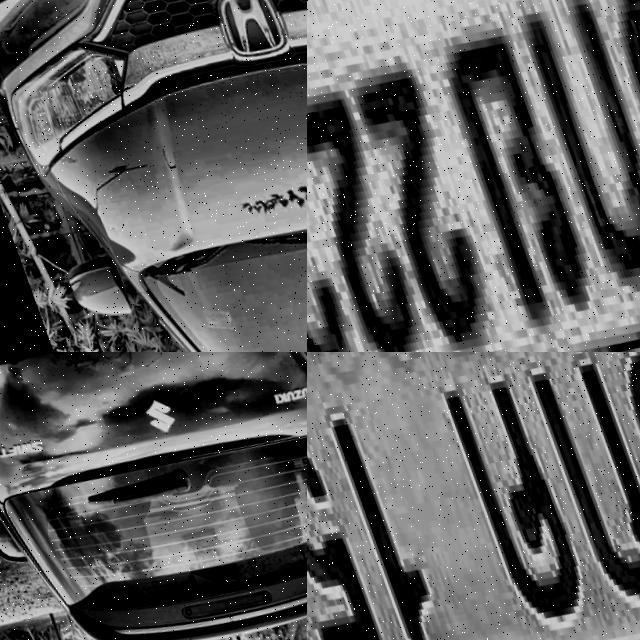license-plate: (307, 0, 640, 352), (307, 352, 640, 640)
